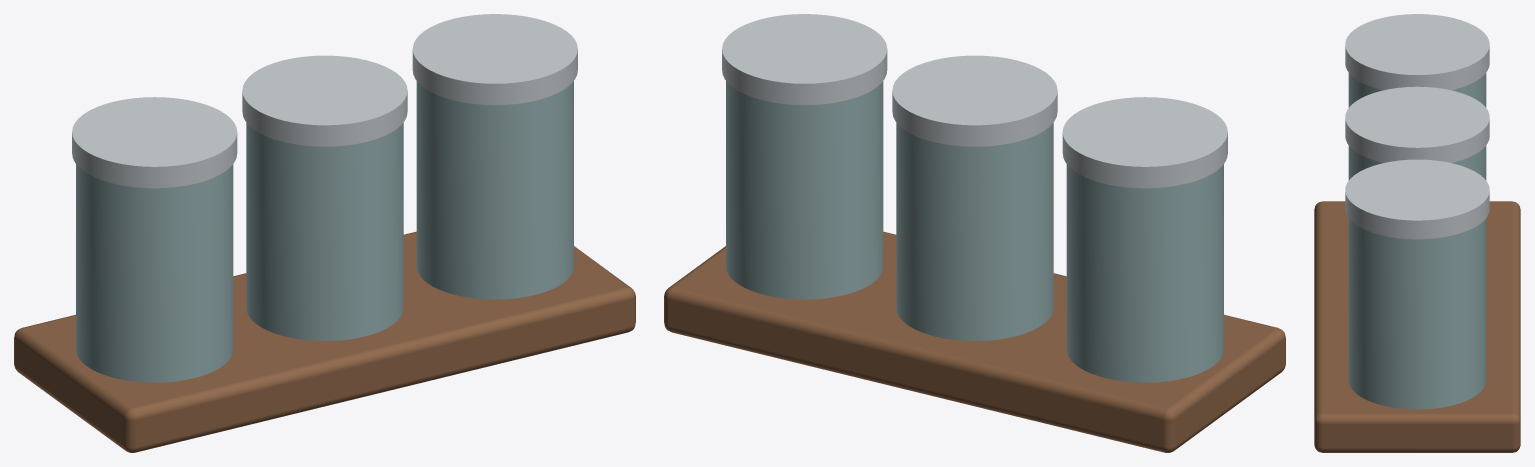
The model's file is clockmaker-and-watch-repair-rinsing-jar-stand-d895ced3__30614.glb.
The picture shows the model from 3 angles, left to right: view 1: azimuth 30°, elevation 25°; view 2: azimuth 150°, elevation 25°; view 3: azimuth 270°, elevation 25°; orthographic projection. The views are drawn at different scales.
Parts seen in each view (by area): view 1: rinsing-jar-stand; view 2: rinsing-jar-stand; view 3: rinsing-jar-stand.
Boxes of the visible parts, x1,y1,x2,y2 form: rinsing-jar-stand: [14, 14, 635, 452]; rinsing-jar-stand: [664, 14, 1285, 452]; rinsing-jar-stand: [1314, 14, 1520, 452].
Size of the model in its own units: 0.3 by 0.147 by 0.12.
